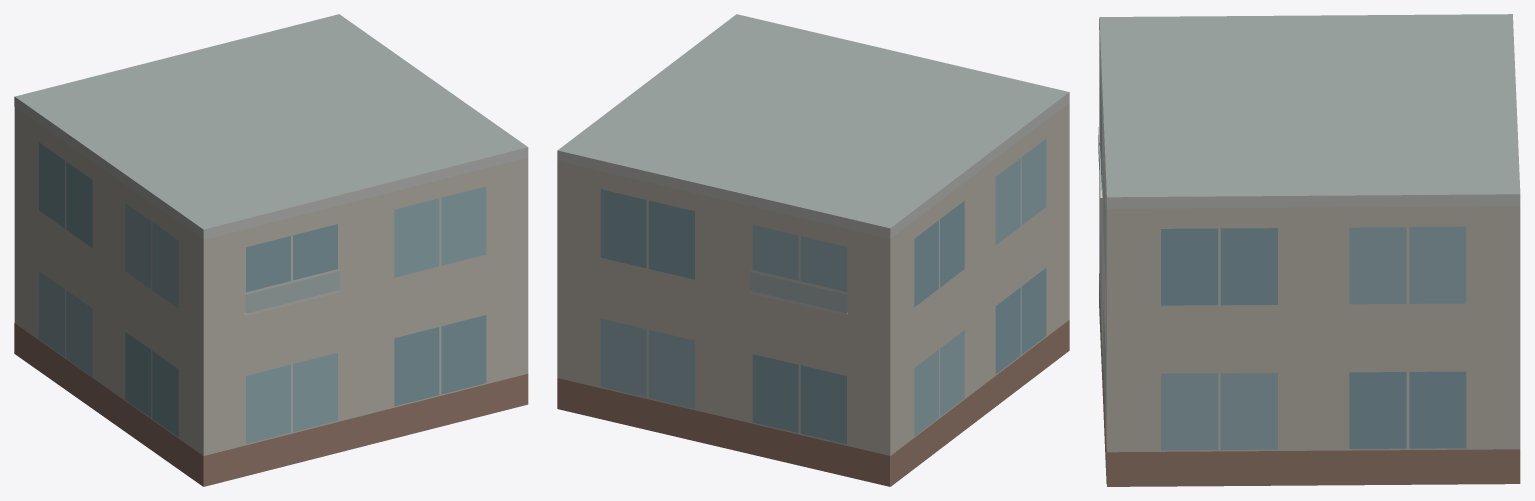
The model's file is survey-upis-32807275.glb.
The picture shows the model from 3 angles, left to right: view 1: azimuth 30°, elevation 25°; view 2: azimuth 150°, elevation 25°; view 3: azimuth 270°, elevation 25°; orthographic projection. The views are drawn at different scales.
Visible parts, largest first — view 1: survey-upis-32807275.tmp; view 2: survey-upis-32807275.tmp; view 3: survey-upis-32807275.tmp.
Boxes of the visible parts, x1,y1,x2,y2 form: survey-upis-32807275.tmp: (14, 14, 528, 486); survey-upis-32807275.tmp: (557, 14, 1069, 486); survey-upis-32807275.tmp: (1098, 14, 1520, 486).
Bounding box in the file's own units: 8.28 × 6.1 × 8.06.
